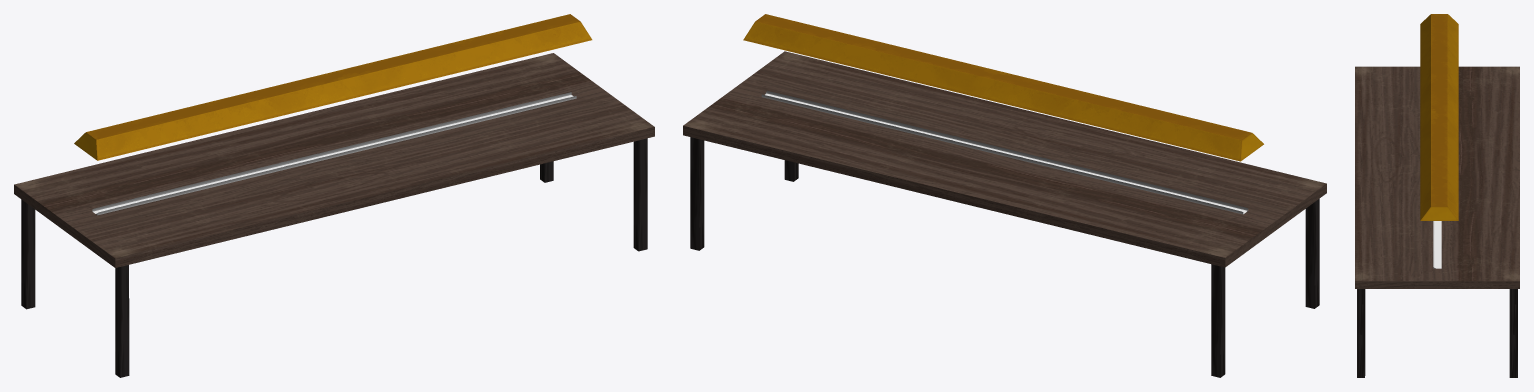
The model's file is Biblioteca_MesaLargaEstudio_001.fbx.
The picture shows the model from 3 angles, left to right: view 1: azimuth 30°, elevation 25°; view 2: azimuth 150°, elevation 25°; view 3: azimuth 270°, elevation 25°; orthographic projection. The views are drawn at different scales.
Visible parts, largest first — view 1: Biblioteca_MesaLargaEstudio.001; view 2: Biblioteca_MesaLargaEstudio.001; view 3: Biblioteca_MesaLargaEstudio.001.
Boxes of the visible parts, bbox=[...] form: Biblioteca_MesaLargaEstudio.001: bbox=[14, 14, 654, 377]; Biblioteca_MesaLargaEstudio.001: bbox=[683, 14, 1326, 377]; Biblioteca_MesaLargaEstudio.001: bbox=[1355, 14, 1519, 377].
Size of the model in its own units: 384 by 136 by 125.
